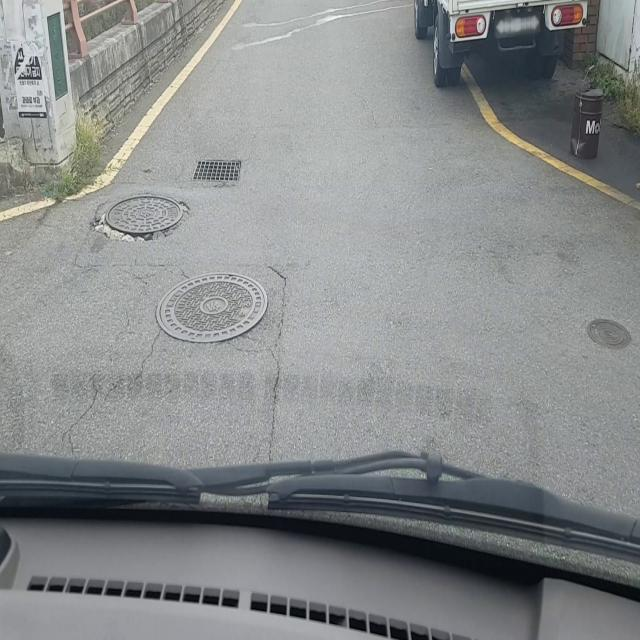Pothole: (89, 190, 192, 244)
